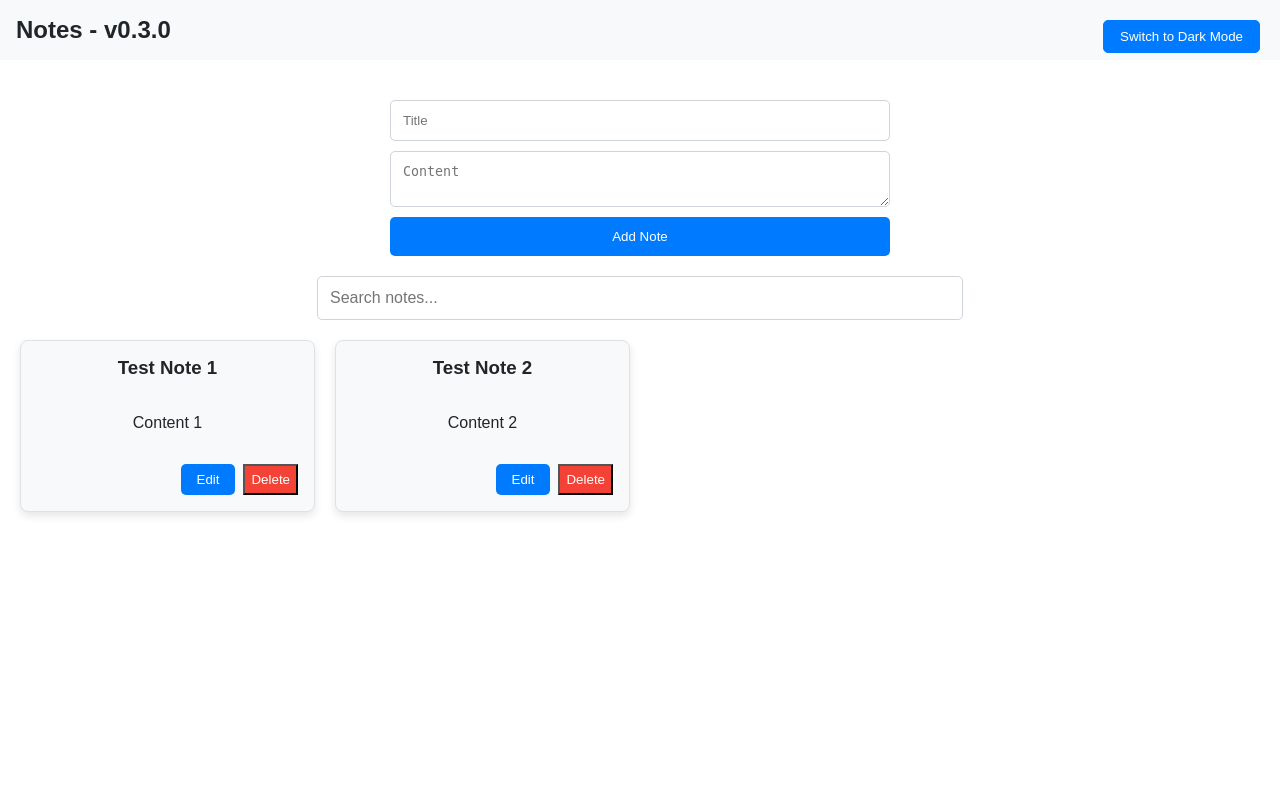
App component › updates a note's title and content
Expected: the heading "Test Note 1" is shown, [118, 357, 217, 378]
Step 1. Click the button "Edit" below "Content 1" → (208, 479), box [180, 464, 236, 495]
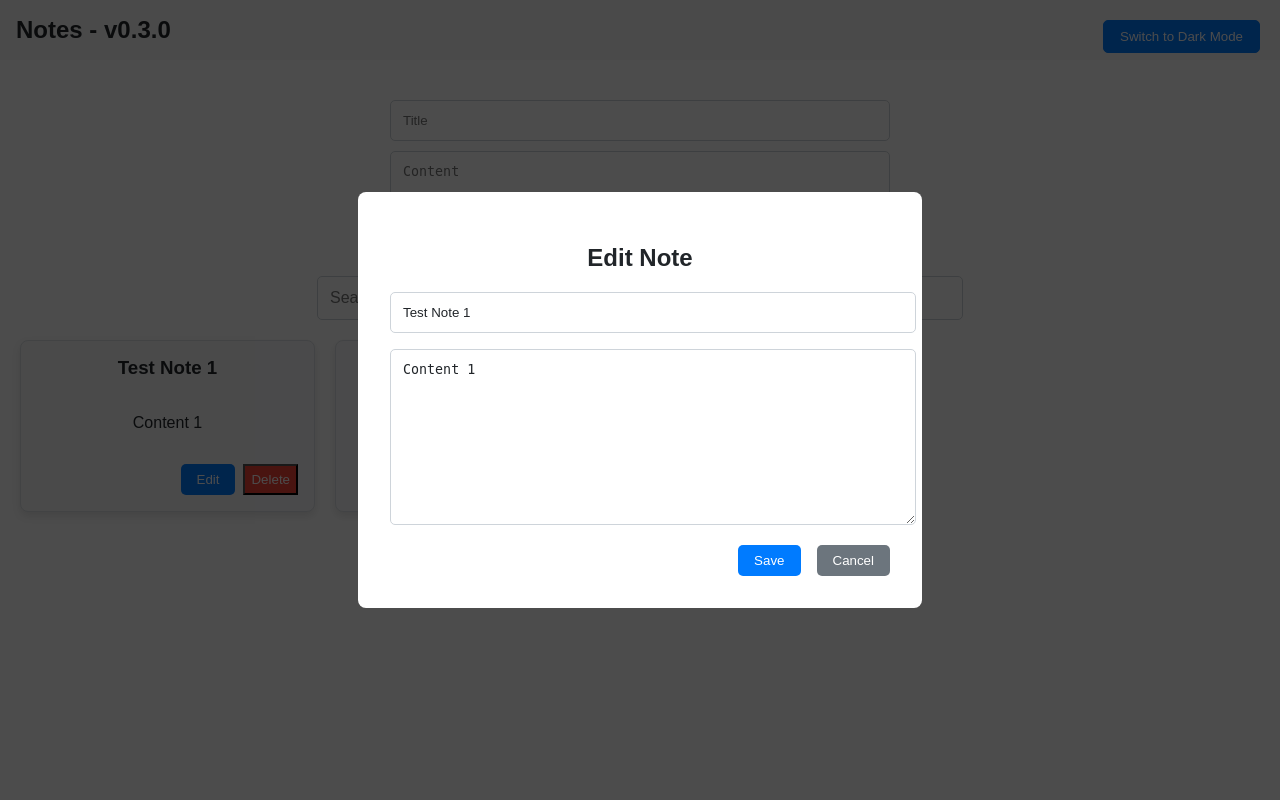
Expected: the heading "Edit Note" is shown, [587, 244, 693, 271]
Step 2. Replace the text in the field showing "Test Note 1" with "Updated Note" → (653, 312), box [390, 292, 916, 333]
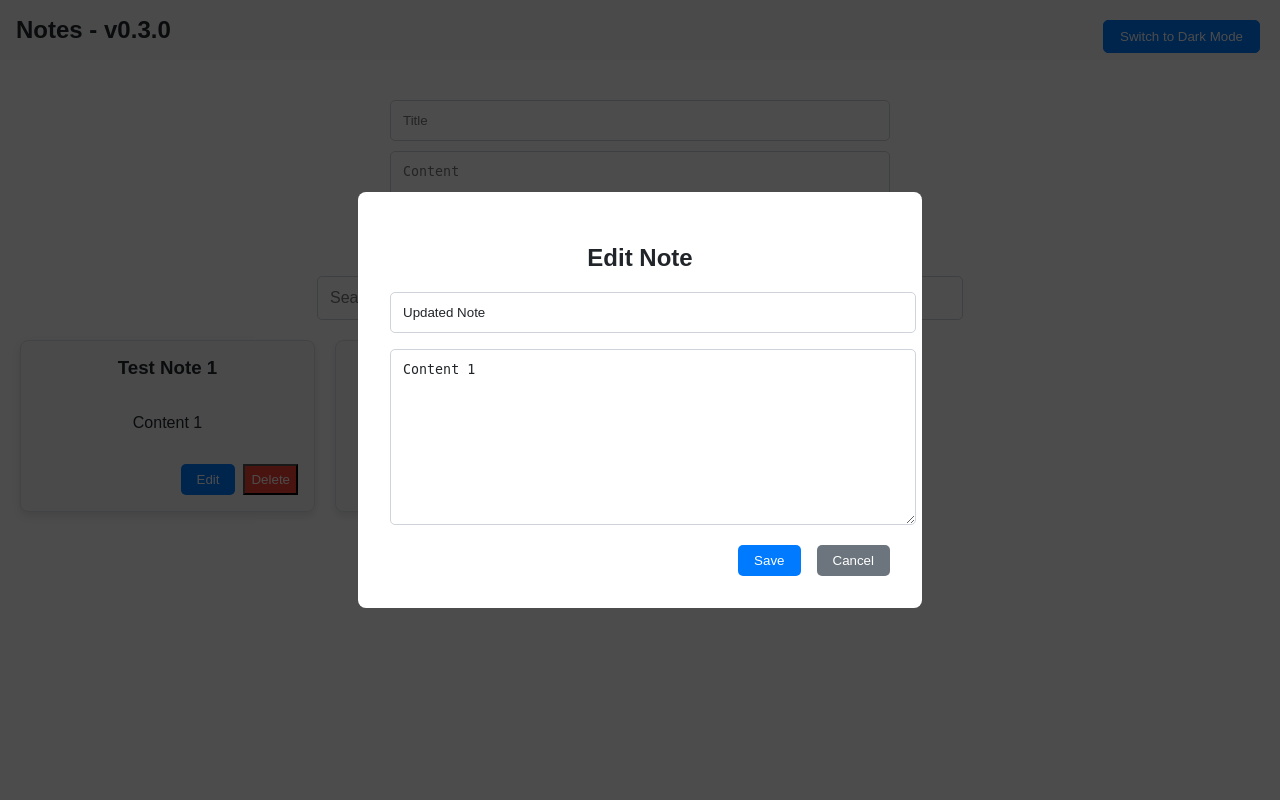
Step 3. Replace the text in the text box showing "Content 1" with "Updated Content" → (653, 437), box [390, 349, 916, 525]
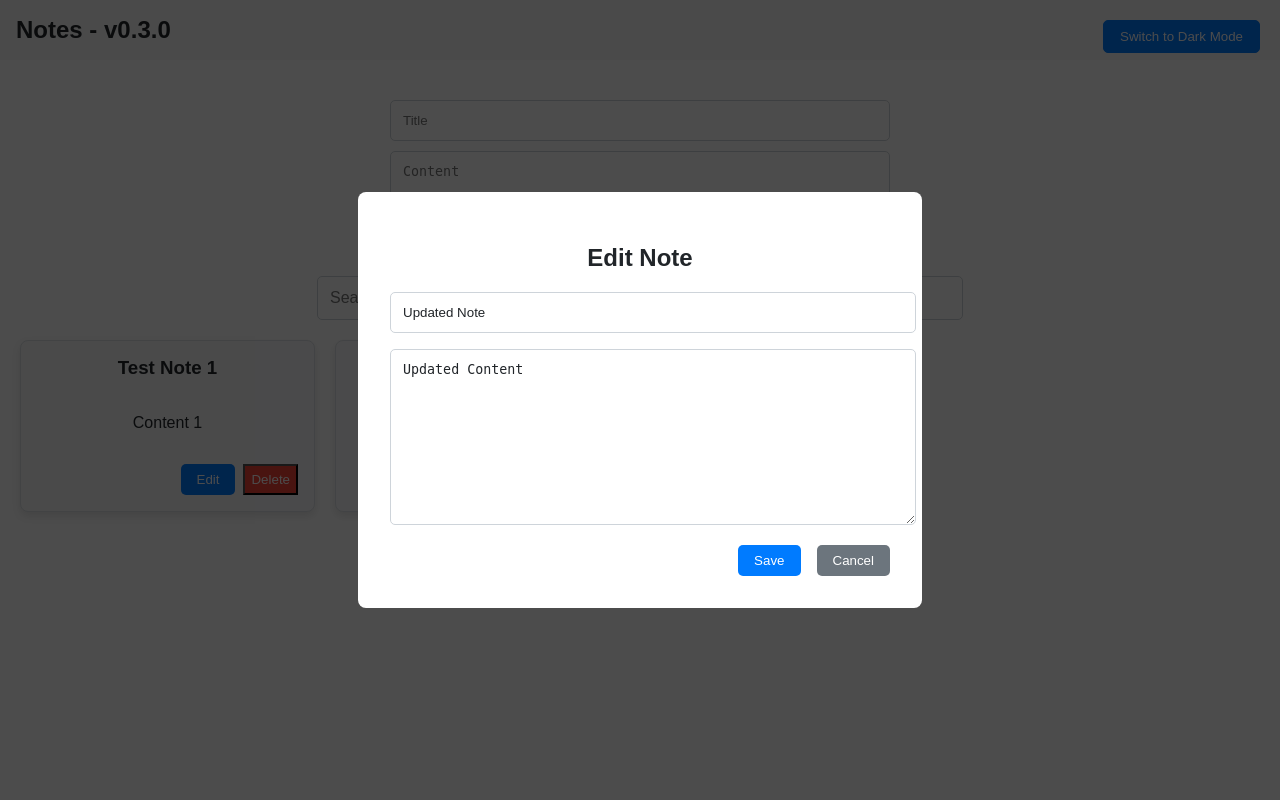
Step 4. Click the button "Save" → (769, 560), box [738, 545, 800, 576]
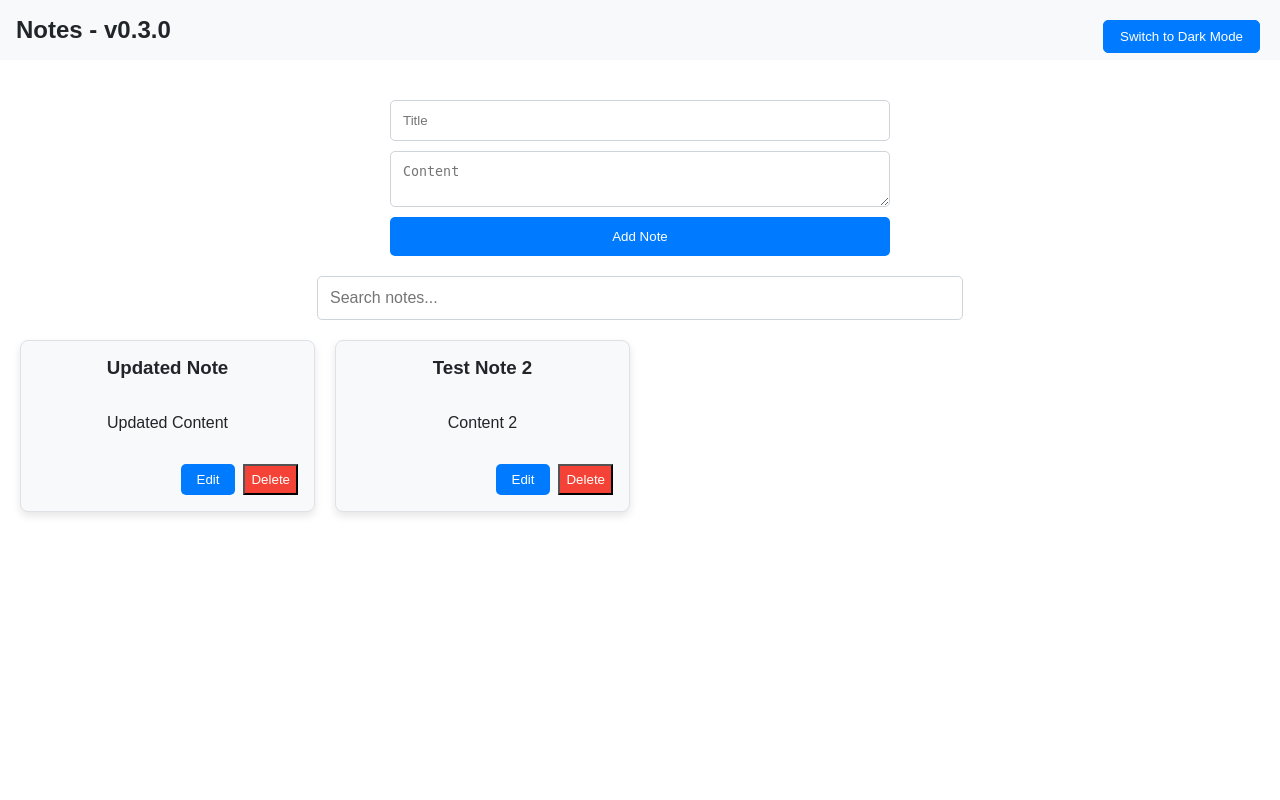
Expected: the heading "Updated Note" is shown, [107, 357, 228, 378]
Expected: the text "Updated Content" is shown, [107, 414, 228, 431]
